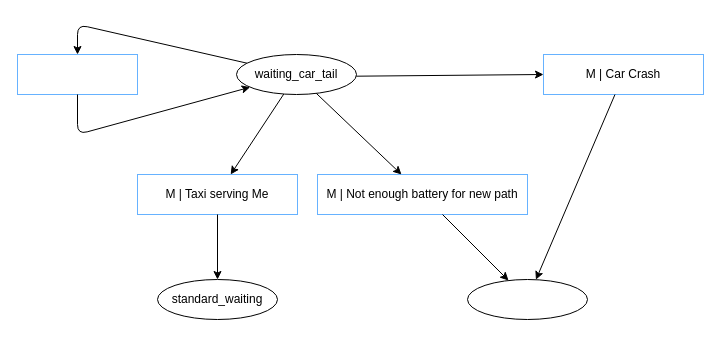
The diagram is 721 pixels wide and 337 high, and some of its shapes have lost their labels. Each missing label, with the centre of its shape:
"M | Change Map" belongs at (77,74).
"standard_idle" belongs at (527,299).
